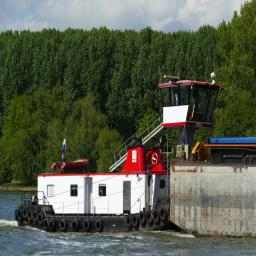tugboat: (15, 70, 226, 240)
